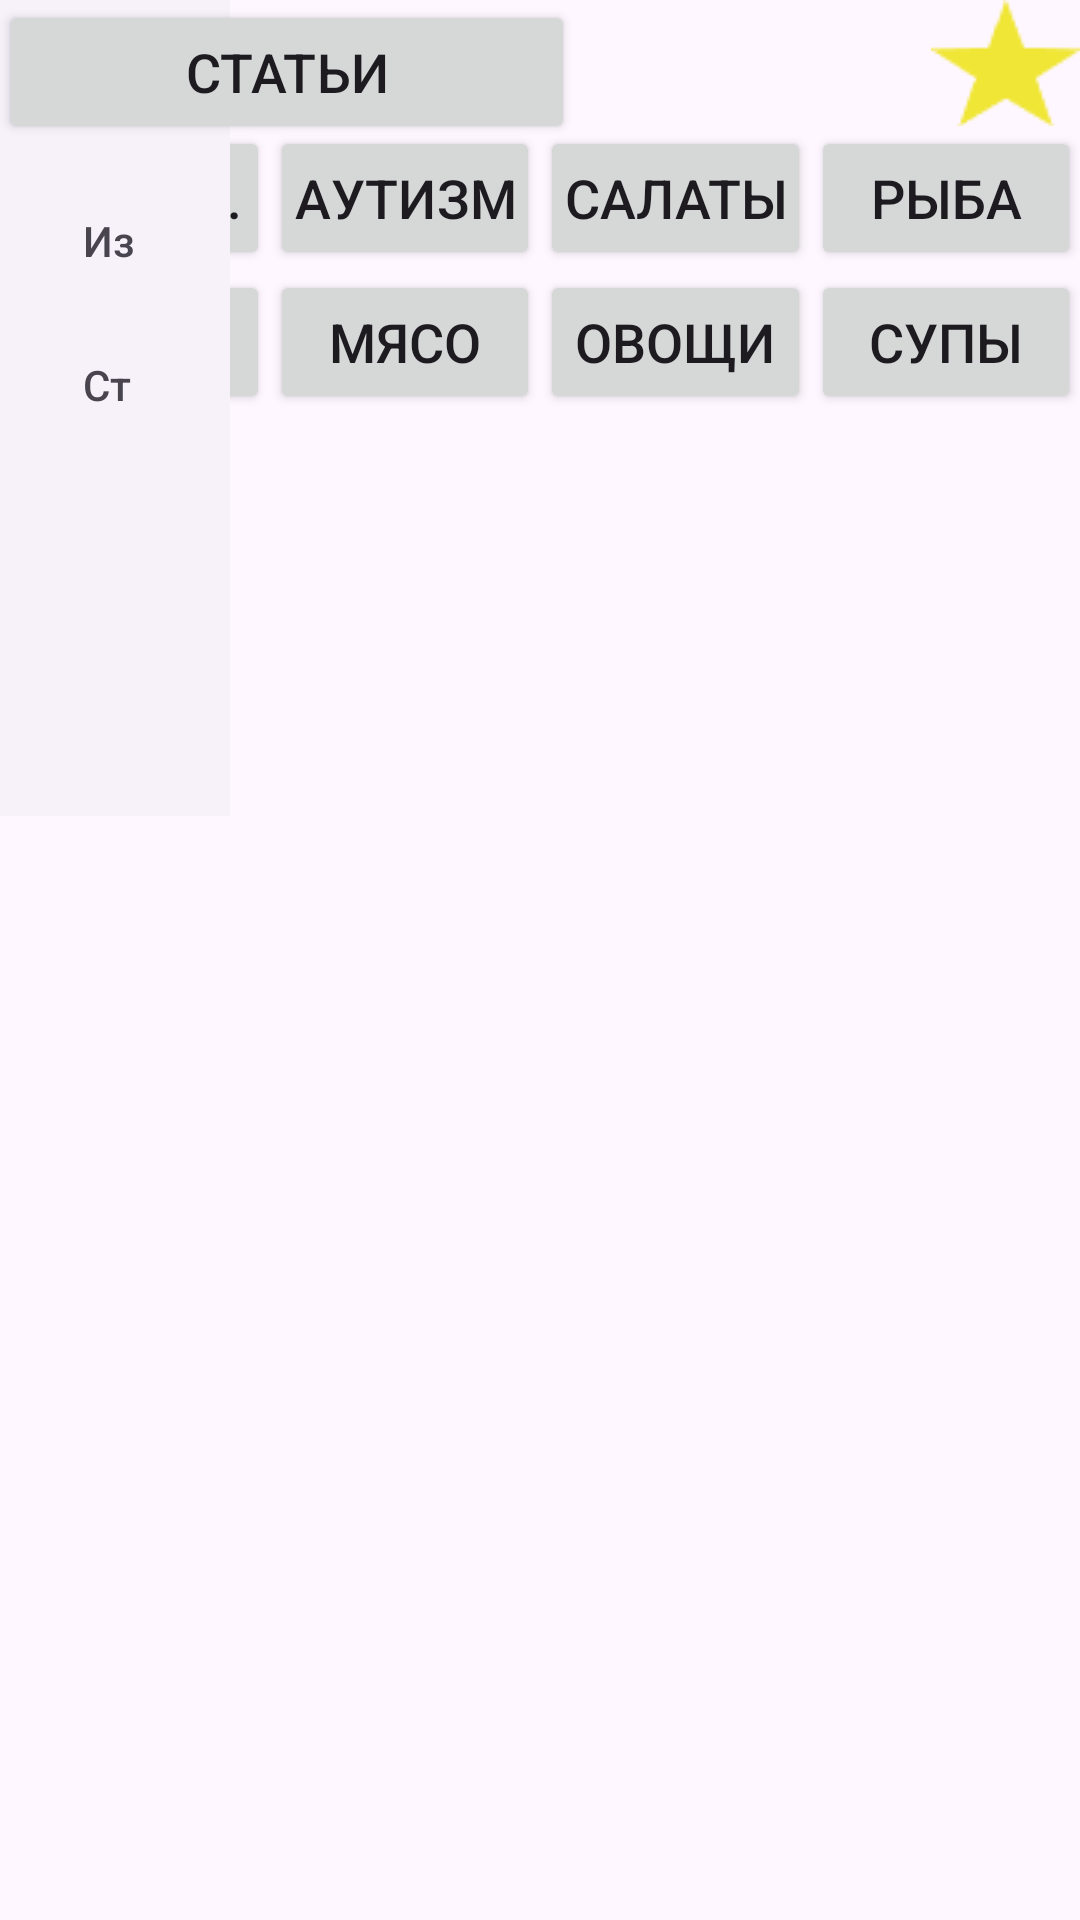

Icon bounding boxes for this 1080px x 1920px phone screenshot, format BBox(x1, y1, x2, y2):
Избранные: BBox(931, 0, 1080, 126)
